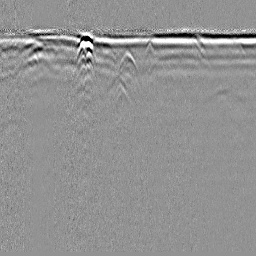cavity: (119, 48, 138, 72)
